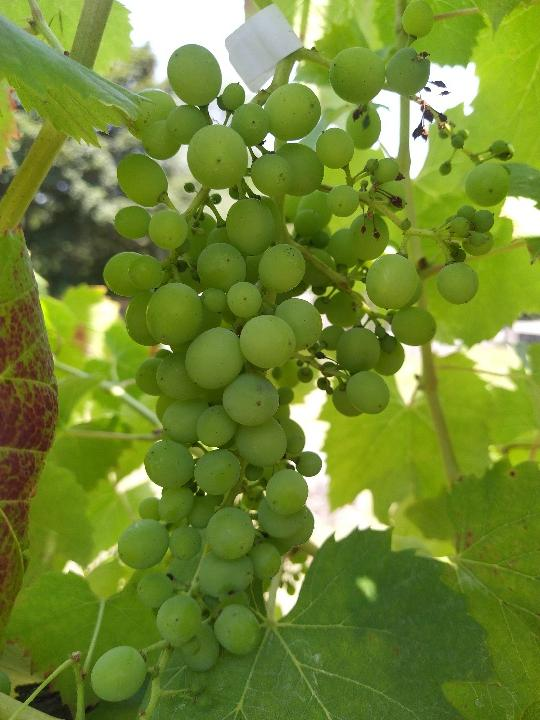grape: (89, 4, 515, 705)
